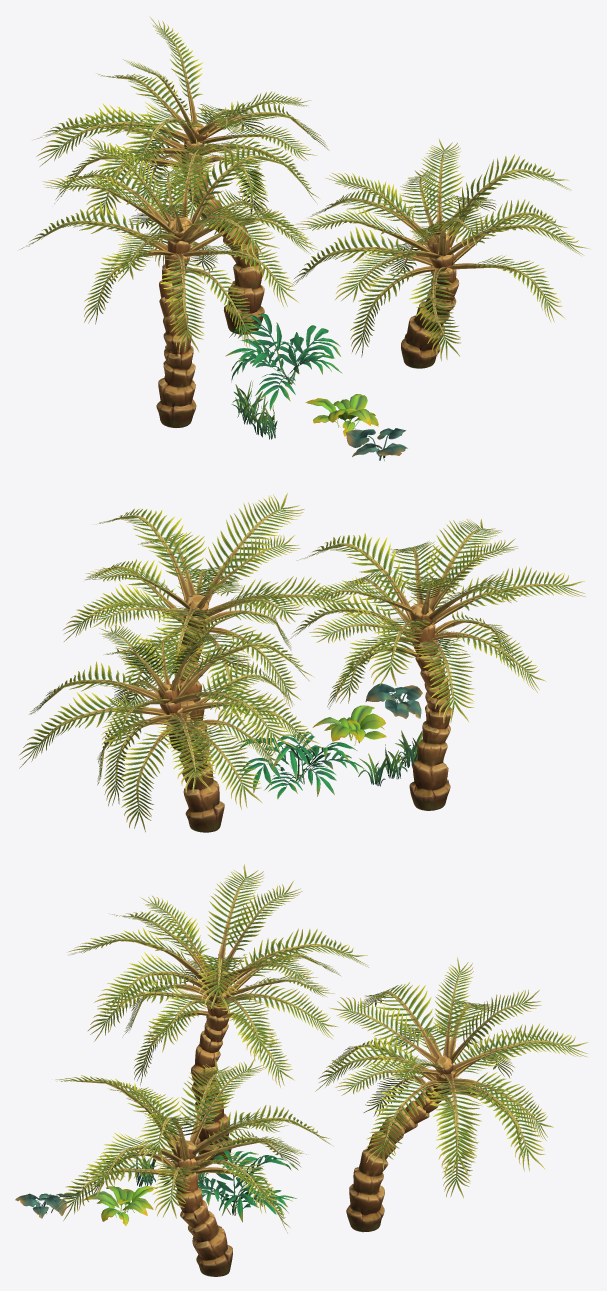
The model's file is vegetation.glb.
The picture shows the model from 3 angles, top to bottom: view 1: azimuth 30°, elevation 25°; view 2: azimuth 150°, elevation 25°; view 3: azimuth 270°, elevation 25°; orthographic projection. The views are drawn at different scales.
Visible parts, largest first — view 1: SM_DatePalm_1_M_DatePalm_Leaves_2048_0, SM_Vegetation_1_M_Small_Vegetation_0; view 2: SM_DatePalm_1_M_DatePalm_Leaves_2048_0, SM_Vegetation_1_M_Small_Vegetation_0; view 3: SM_DatePalm_1_M_DatePalm_Leaves_2048_0, SM_Vegetation_1_M_Small_Vegetation_0.
Part boxes in pixels (left/top/right/bottom): SM_DatePalm_1_M_DatePalm_Leaves_2048_0: left=19, top=16, right=590, bottom=427; SM_Vegetation_1_M_Small_Vegetation_0: left=225, top=314, right=407, bottom=460; SM_DatePalm_1_M_DatePalm_Leaves_2048_0: left=19, top=493, right=586, bottom=832; SM_Vegetation_1_M_Small_Vegetation_0: left=233, top=683, right=422, bottom=799; SM_DatePalm_1_M_DatePalm_Leaves_2048_0: left=55, top=864, right=588, bottom=1276; SM_Vegetation_1_M_Small_Vegetation_0: left=15, top=1150, right=298, bottom=1225.
Size of the model in its own units: 9.96 by 5.18 by 10.64.
Materials: 2 (2 with a texture image).
